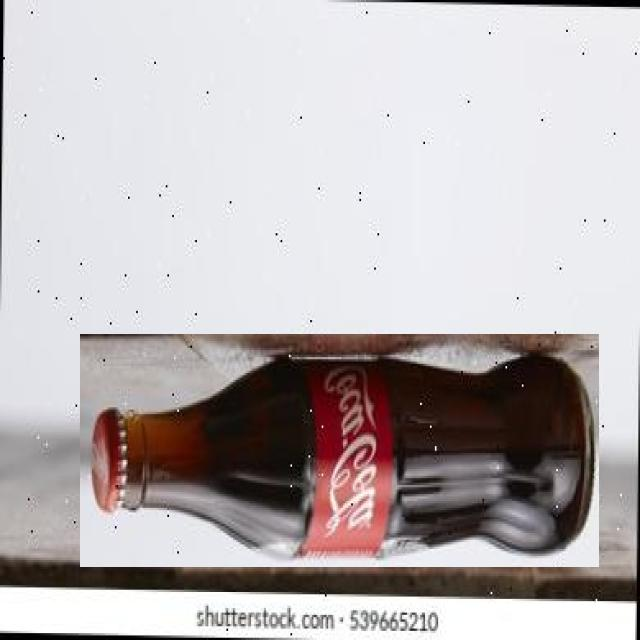coca-cola: (80, 334, 599, 567)
